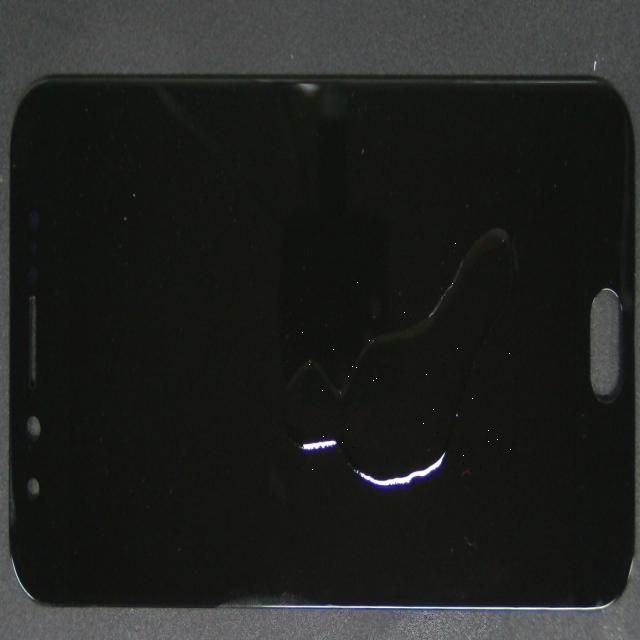oil: (258, 128, 606, 492)
